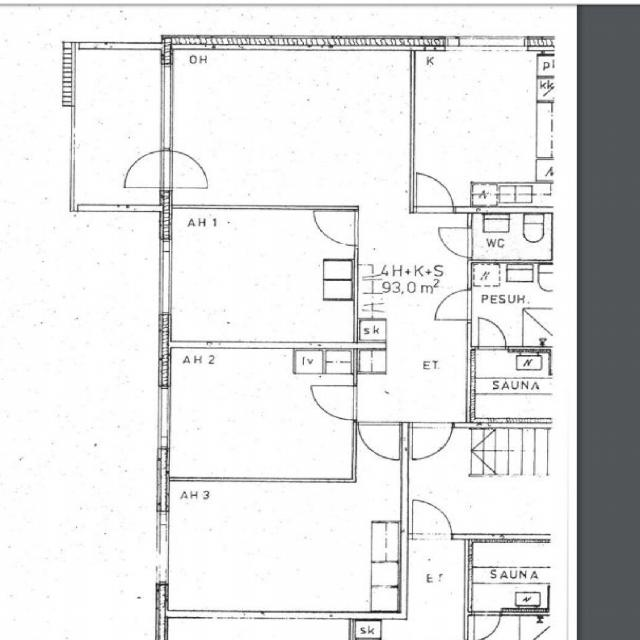door: (116, 151, 171, 188), (159, 151, 213, 188), (412, 422, 452, 463), (314, 385, 358, 420), (314, 212, 358, 246), (417, 174, 454, 214), (359, 422, 398, 459), (431, 290, 472, 320), (432, 228, 472, 258), (478, 323, 506, 349)
